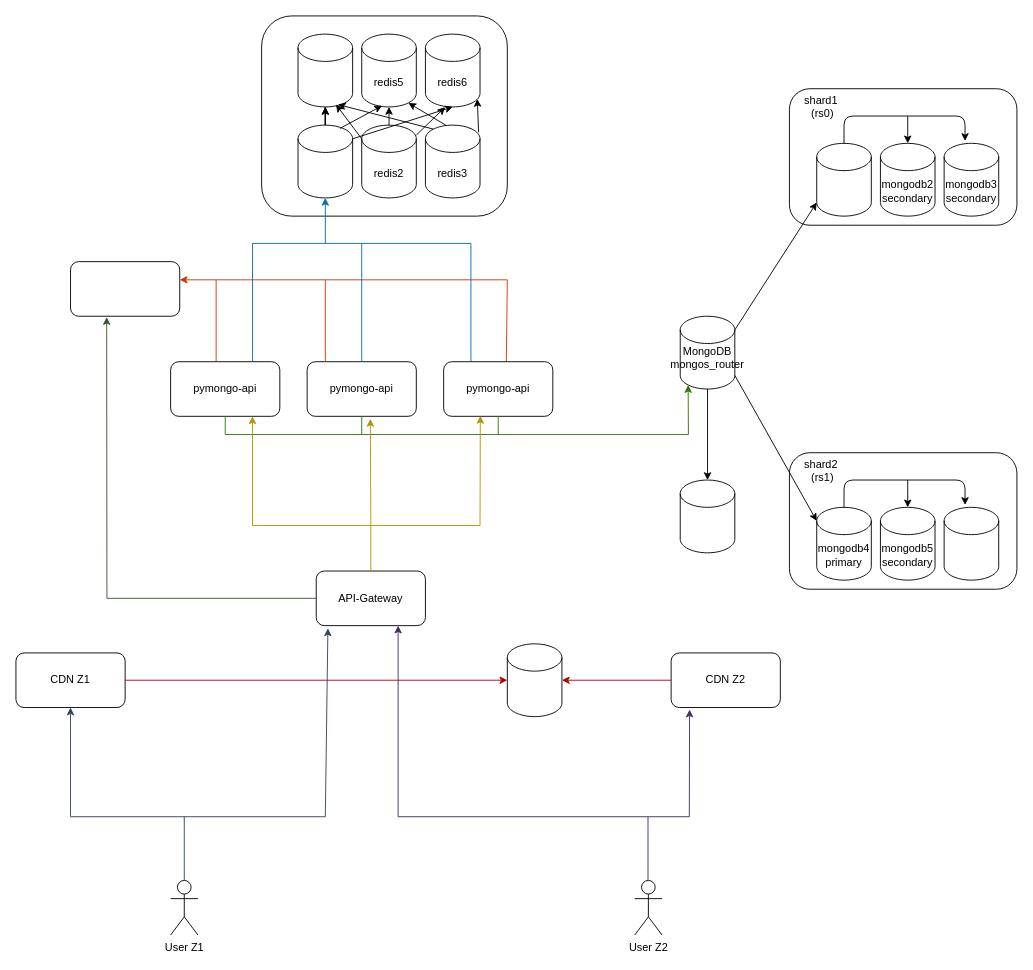
Some shapes in this 1033 by 970 pixel diagram are drawn without their labels. Here are the shapes that lost their labels. From the top down, the centre of each, then its label:
At pixel 325 70: "redis4".
At pixel 325 161: "redis1".
At pixel 843 179: "mongodb1 primary".
At pixel 125 288: "Consul".
At pixel 707 516: "MongoDB configSrv".
At pixel 971 543: "mongodb6 secondary".
At pixel 534 680: "Static content storage".
